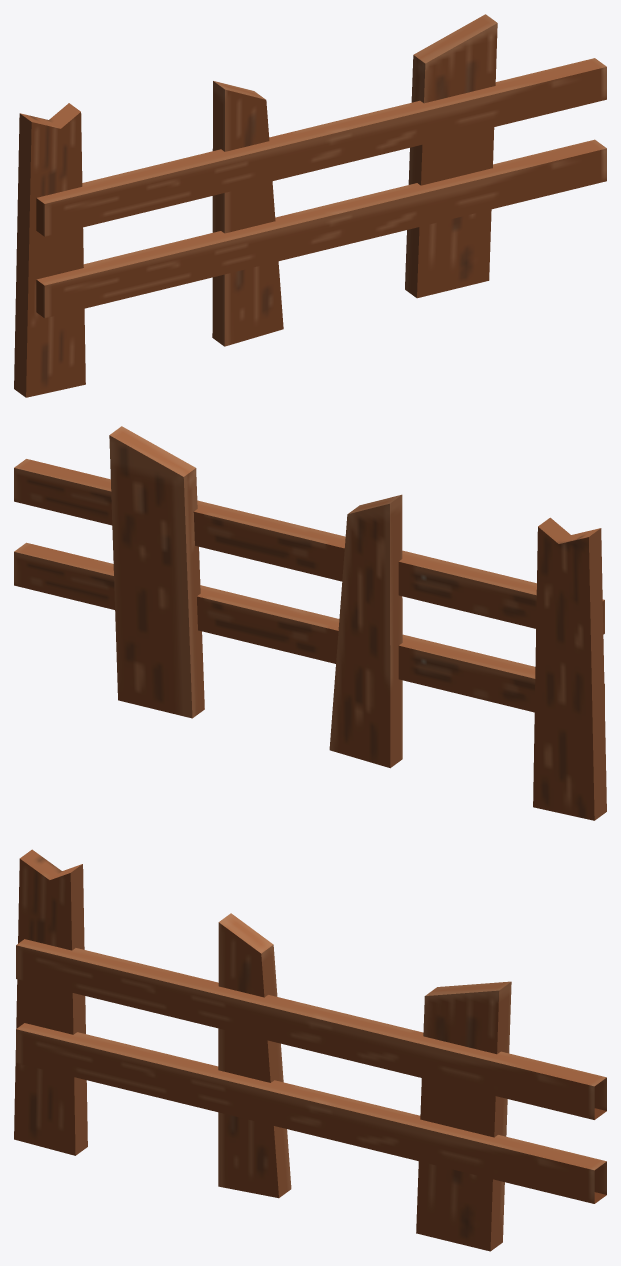
Rendered from PrimeraSlum_Wall_Var02.fbx.
3 renders of one model, top to bottom at view 1: azimuth 30°, elevation 25°; view 2: azimuth 150°, elevation 25°; view 3: azimuth 330°, elevation 25°, orthographic. The views are drawn at different scales.
Parts seen in each view (by area): view 1: PrimeraSlum_Wall_Var02; view 2: PrimeraSlum_Wall_Var02; view 3: PrimeraSlum_Wall_Var02.
Boxes of the visible parts, x1,y1,x2,y2 form: PrimeraSlum_Wall_Var02: (14, 14, 606, 397); PrimeraSlum_Wall_Var02: (14, 426, 606, 820); PrimeraSlum_Wall_Var02: (14, 849, 606, 1251).
Bounding box in the file's own units: 1037 × 477 × 63.83.
